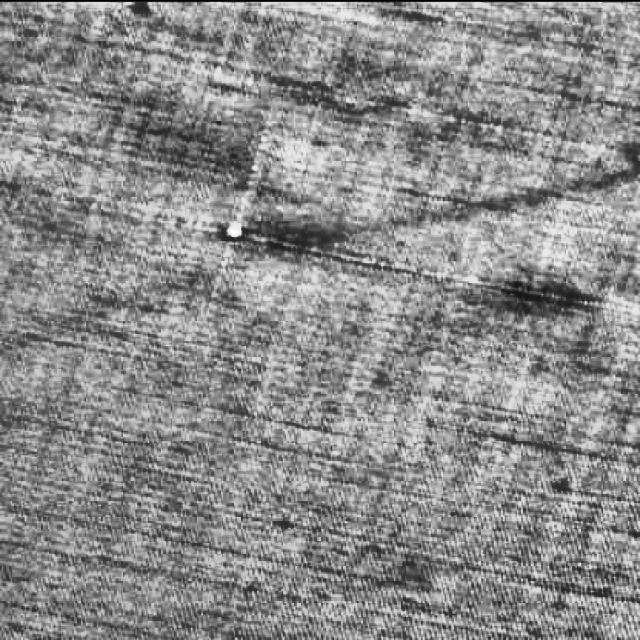hole: (222, 213, 248, 249)
